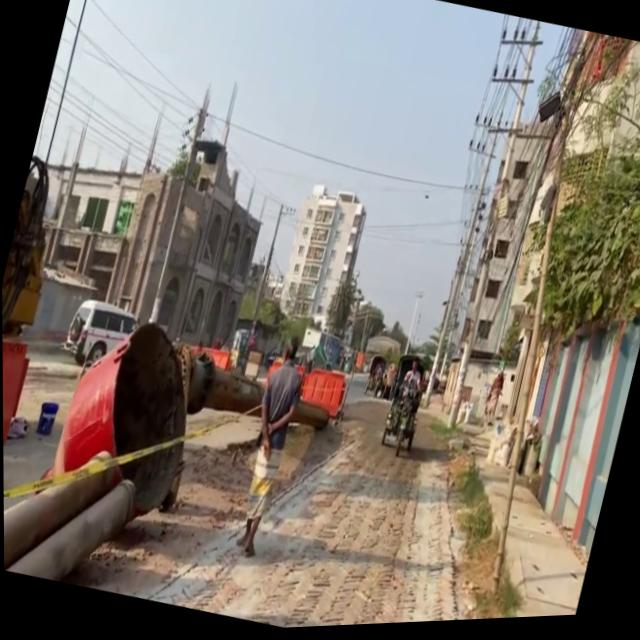Car: (2, 289, 259, 618)
Fallen-tree: (375, 382, 426, 463)
Garbage-bin: (222, 333, 314, 562)
Pothole: (408, 412, 615, 626)
Traffic-cone: (1, 151, 78, 457), (254, 330, 360, 440)
